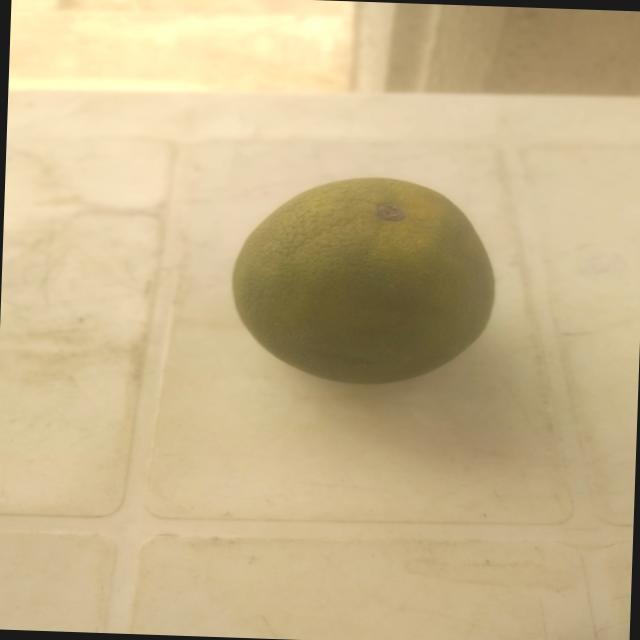agrume: (222, 163, 509, 394)
